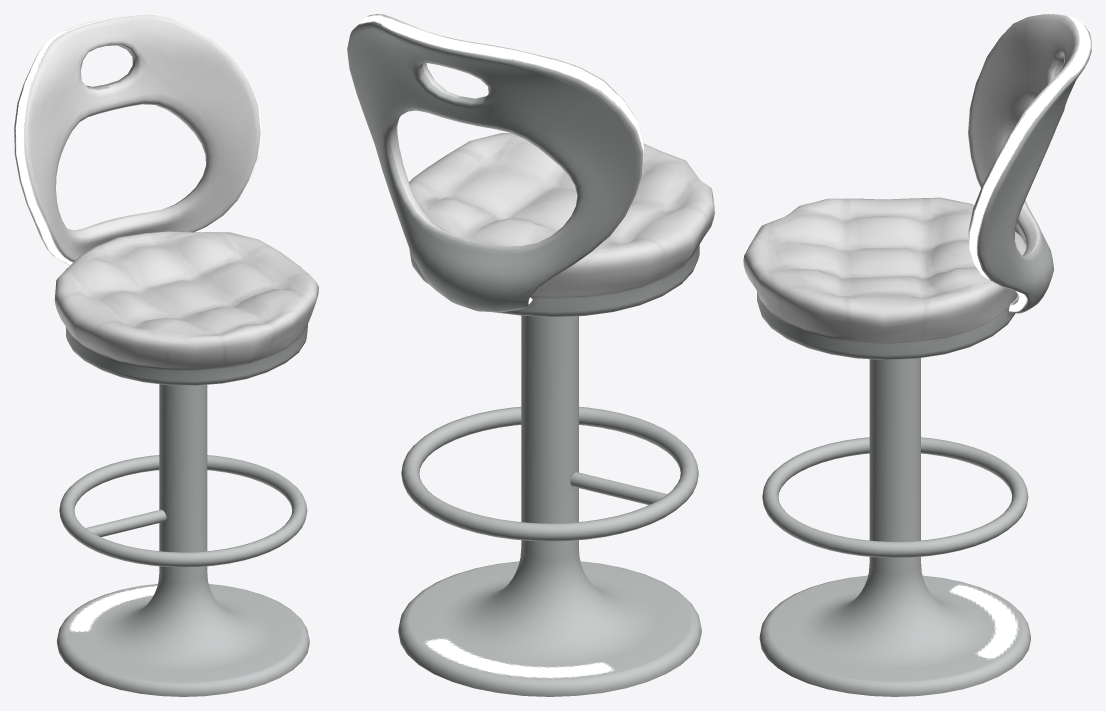
Rendered from BarChair06.FBX.
The picture shows the model from 3 angles, left to right: view 1: azimuth 30°, elevation 25°; view 2: azimuth 150°, elevation 25°; view 3: azimuth 270°, elevation 25°; orthographic projection. The views are drawn at different scales.
Visible parts, largest first — view 1: BarChair06; view 2: BarChair06; view 3: BarChair06.
Boxes of the visible parts, left/top/right/bottom form: BarChair06: left=14, top=14, right=318, bottom=696; BarChair06: left=347, top=14, right=714, bottom=696; BarChair06: left=743, top=14, right=1091, bottom=696.
Size of what is drawn, in the model's own units: 0.564 by 1.25 by 0.6567.
